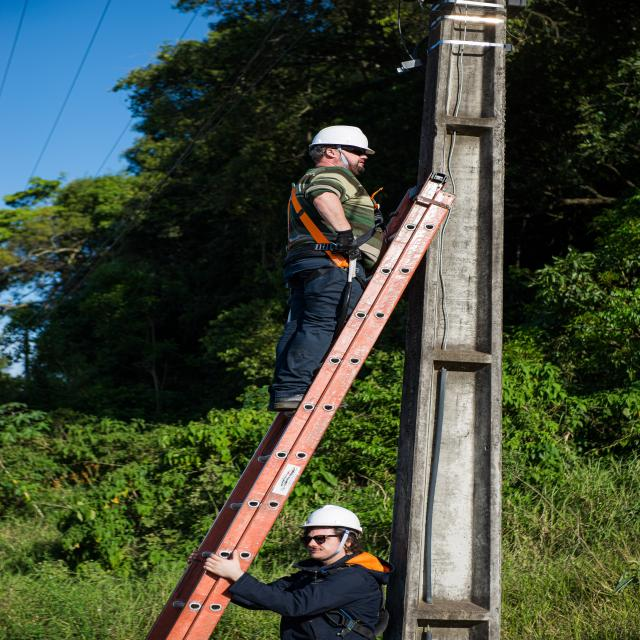capacete: (306, 124, 377, 155), (298, 506, 367, 536)
luva: (331, 228, 355, 255)
